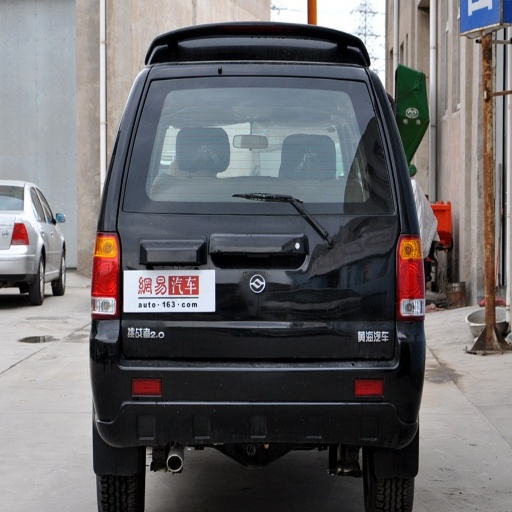_background_: (91, 324, 424, 449)
back_bumper: (121, 113, 266, 207), (234, 49, 351, 78), (343, 146, 392, 204), (295, 157, 340, 182)
back_left_door: (90, 230, 120, 324)
back_right_door: (396, 233, 426, 322)
back_right_light: (208, 216, 309, 312)
tailgate: (111, 212, 398, 361), (242, 88, 343, 151), (150, 81, 215, 107)
trunk: (363, 450, 416, 511), (97, 455, 143, 511)
